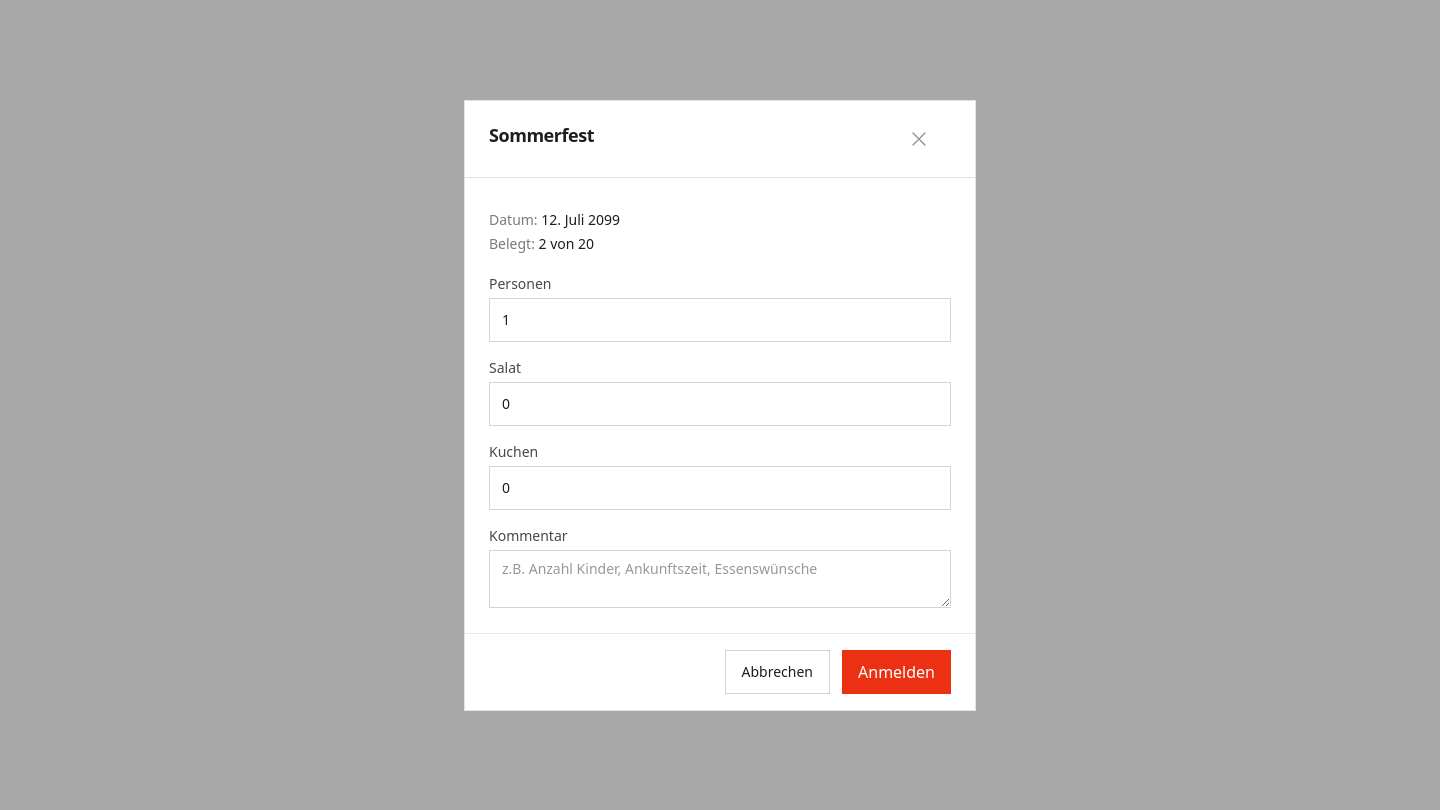
Scenario: EventSignupModal › rejects negative contribution quantities with an inline error
This screenshot has width=1440, height=810.
Step 1. Replace the text in the number field labelled "Salat" with "-1" → (720, 404), box [489,382,951,426]
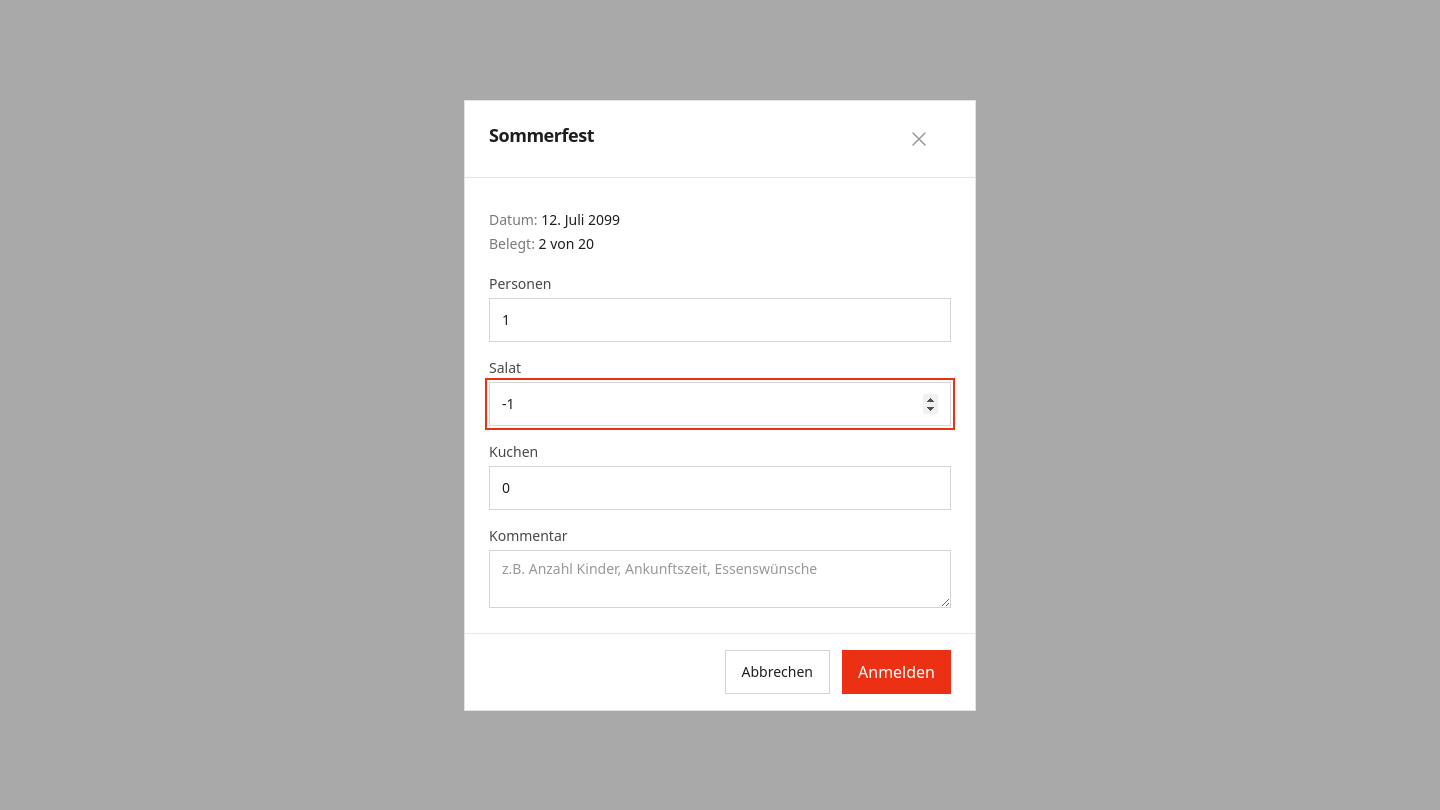
Step 2. Click the button "Anmelden" → (896, 672), box [842,650,951,694]
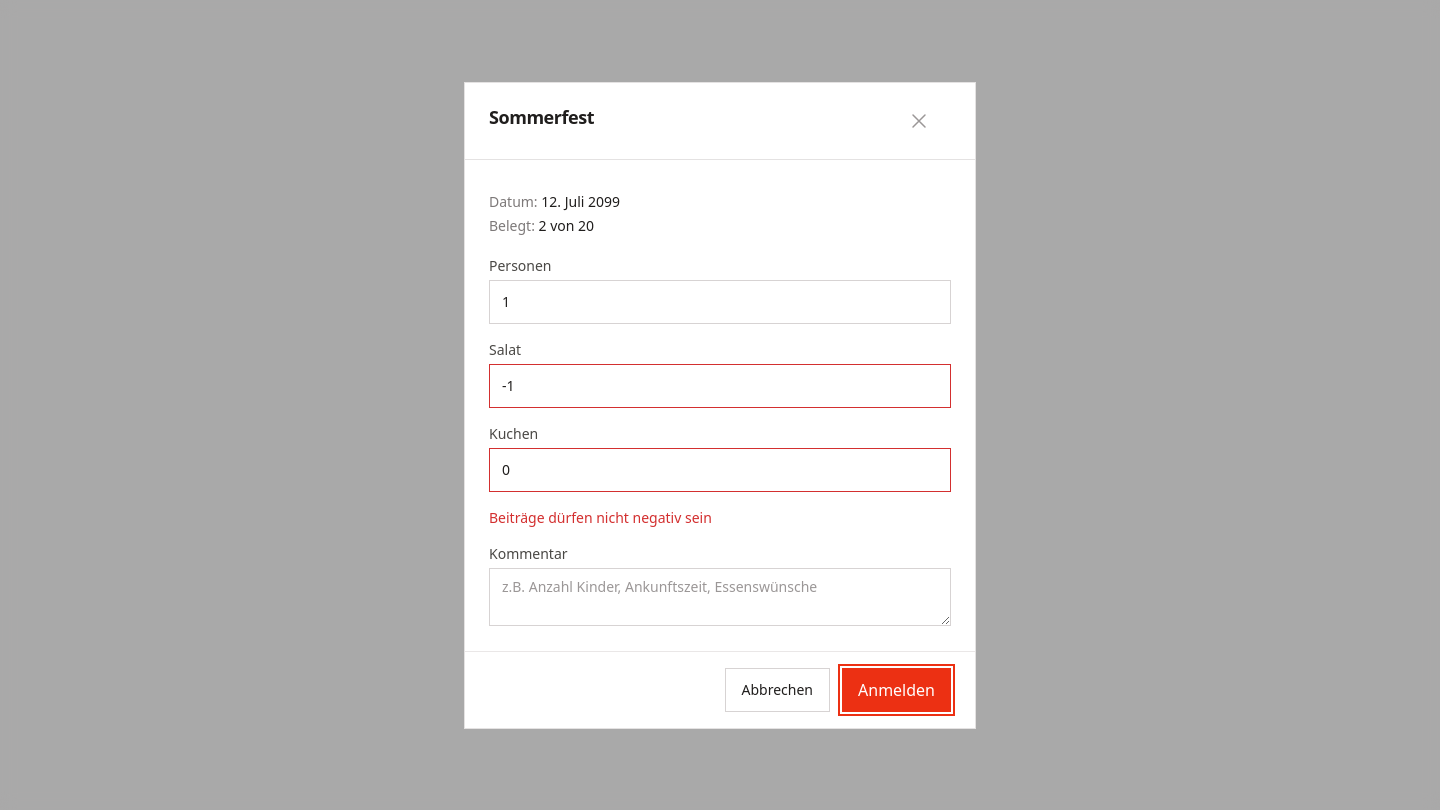
Expected: the text "Beiträge dürfen nicht negativ sein" is shown, [489,508,712,526]
